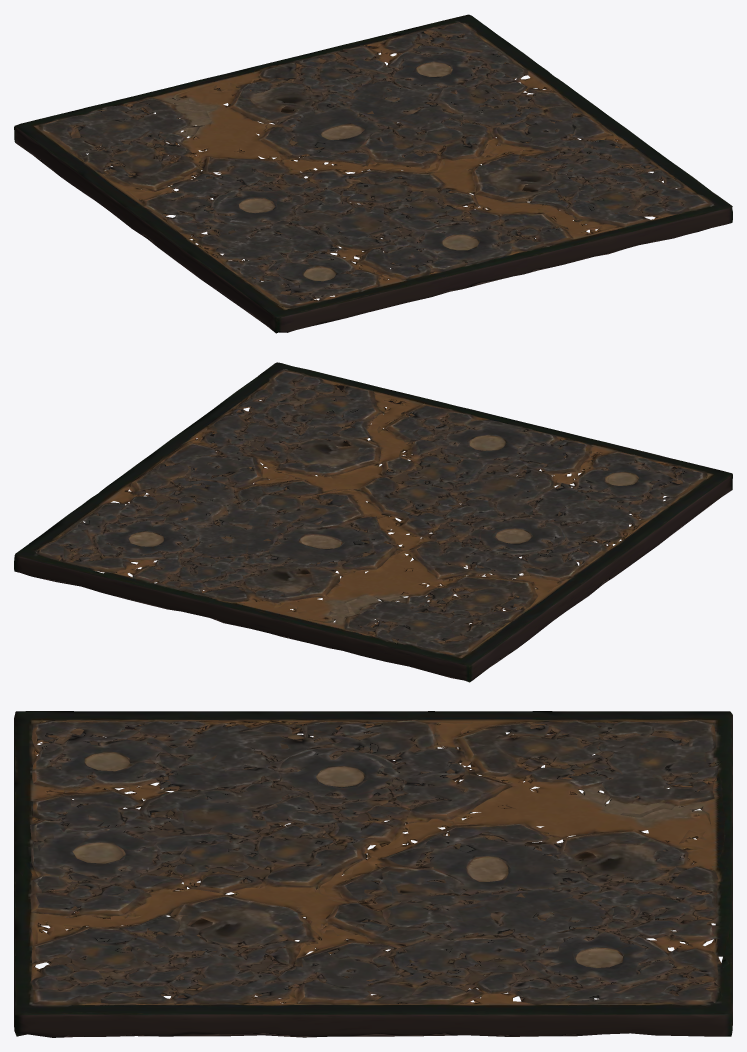
The model's file is MartianFloor_CraterCracks_A_UnrealReady.glb.
3 renders of one model, top to bottom at view 1: azimuth 30°, elevation 25°; view 2: azimuth 150°, elevation 25°; view 3: azimuth 270°, elevation 25°, orthographic. The views are drawn at different scales.
Visible parts, largest first — view 1: MartianFloor_CraterCracks_A_UnrealReady; view 2: MartianFloor_CraterCracks_A_UnrealReady; view 3: MartianFloor_CraterCracks_A_UnrealReady.
Part boxes in pixels (x1=…): MartianFloor_CraterCracks_A_UnrealReady: x1=14, y1=14, x2=732, y2=333; MartianFloor_CraterCracks_A_UnrealReady: x1=14, y1=362, x2=732, y2=682; MartianFloor_CraterCracks_A_UnrealReady: x1=14, y1=711, x2=732, y2=1037.
Size of the model in its own units: 6 by 0.24 by 6.
Materials: 1 (1 with a texture image).
